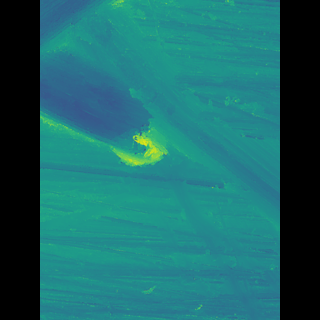Loch: (69, 0, 250, 226), (121, 113, 171, 174)
